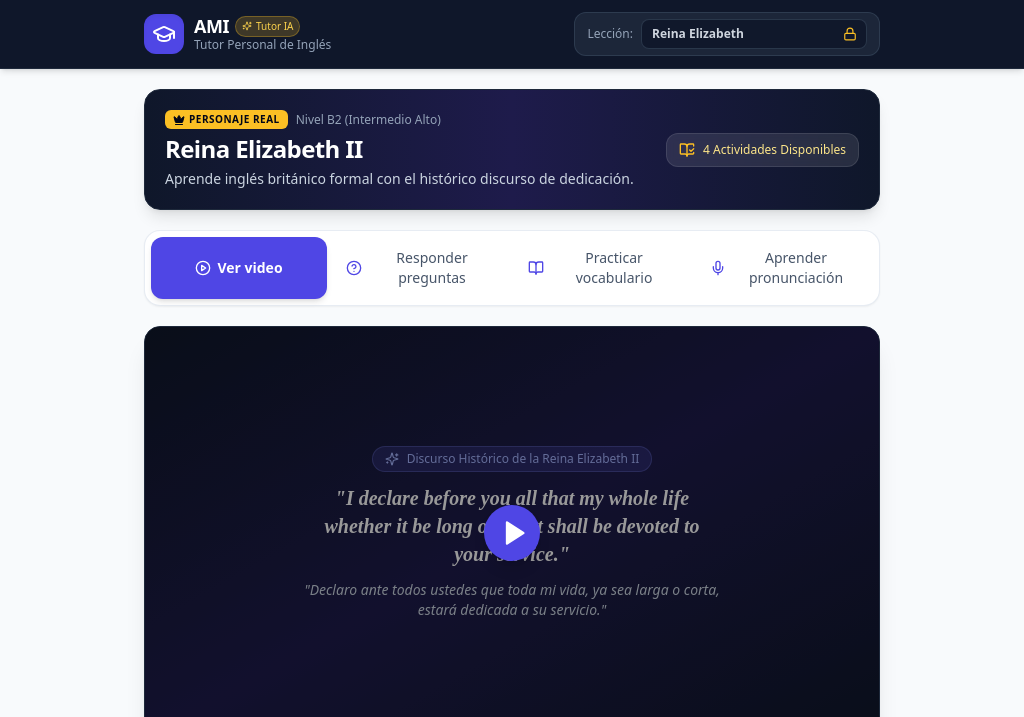
Test: AI English Tutor App › switches tabs correctly
The width and height of the screenshot is (1024, 717).
Note: Click on Quiz tab
Click the button "Responder preguntas".
click(421, 268)  # box [333,237,509,299]
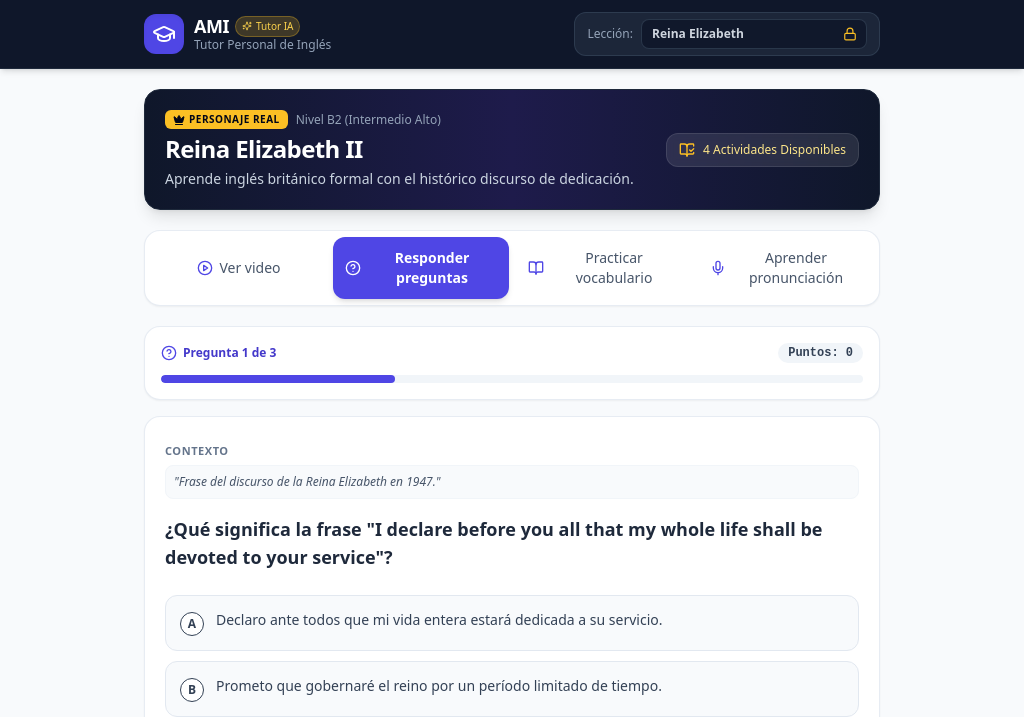
Check: the text "Pregunta 1 de 3" is shown, box [161,345,276,361]
Note: Click on Vocabulary tab
Click the button "Practicar vocabulario".
click(603, 268)  # box [515,237,691,299]
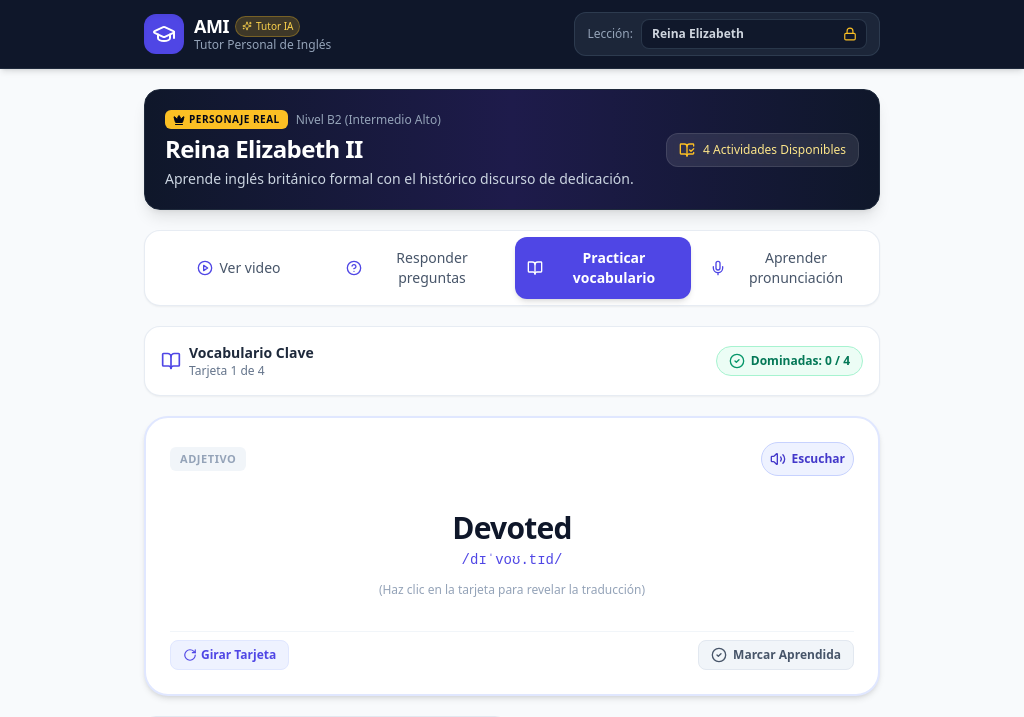
Check: the heading "Vocabulario Clave" is shown, box [189,343,314,363]
Note: Click on Pronunciation tab
Click the button "Aprender pronunciación".
click(785, 268)  # box [697,237,873,299]
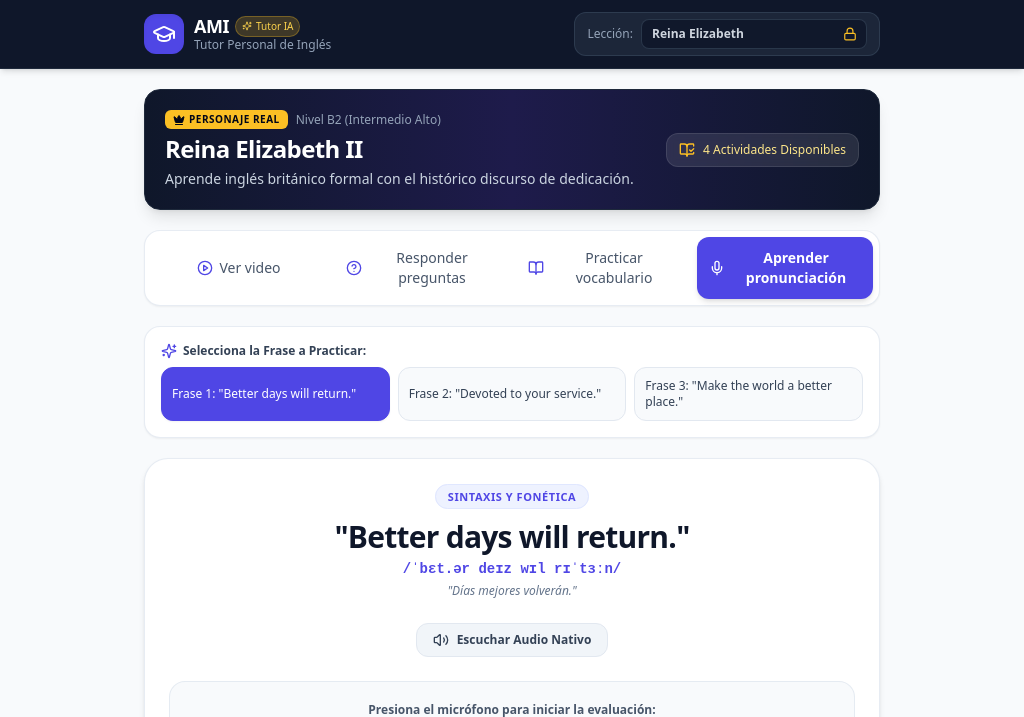
Check: the text "Selecciona la Frase a Practicar:" is shown, box [161,342,366,359]
